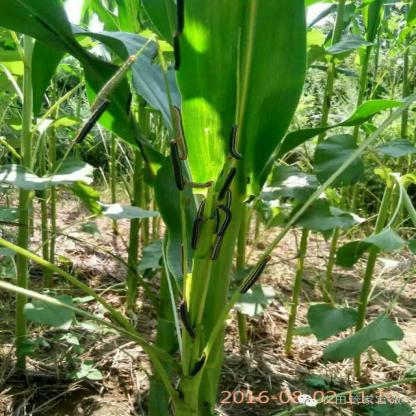armyworm: (74, 99, 114, 142), (240, 254, 271, 296), (170, 103, 191, 161), (167, 138, 187, 192), (179, 300, 198, 339), (227, 124, 246, 161), (217, 167, 234, 200), (191, 217, 206, 250), (216, 202, 231, 235), (172, 157, 186, 191), (209, 232, 225, 260), (171, 35, 183, 71), (176, 1, 186, 34), (224, 190, 234, 210)
